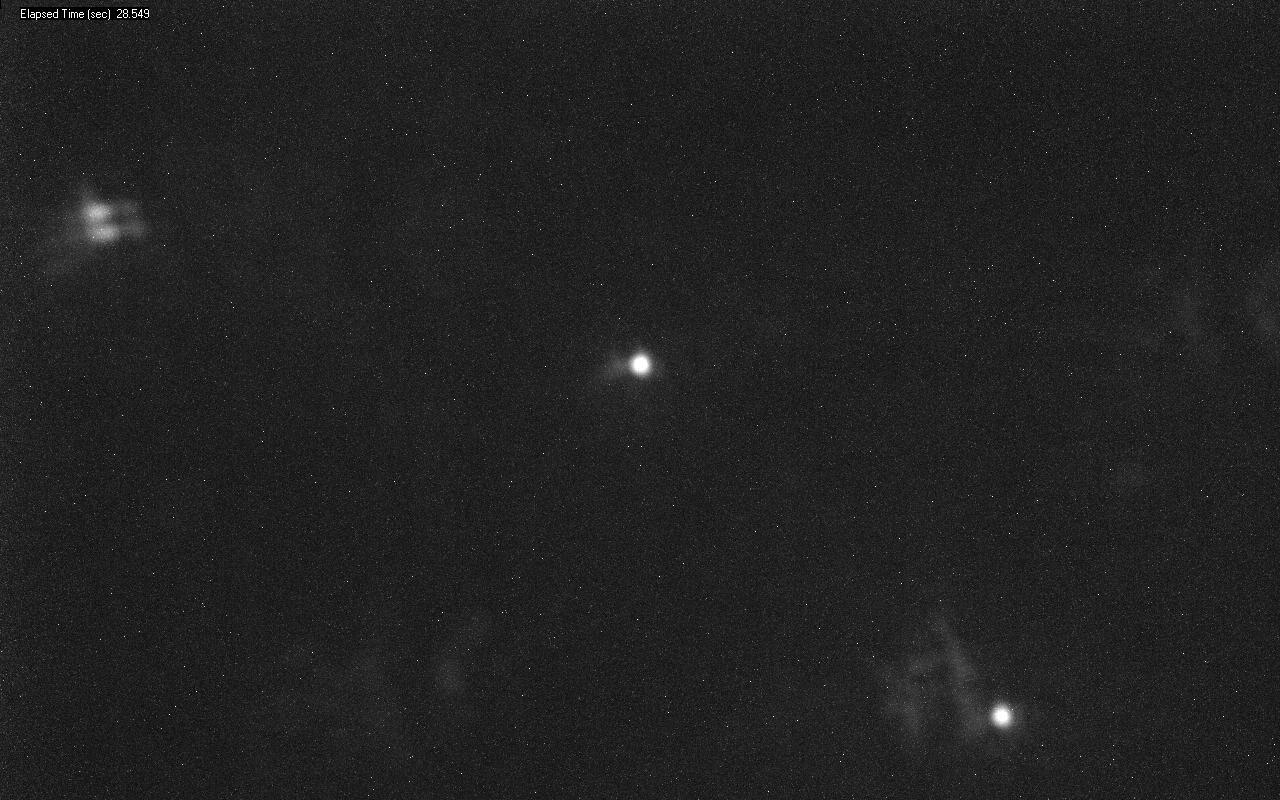Bead: (990, 702, 1014, 729), (629, 352, 651, 375)
